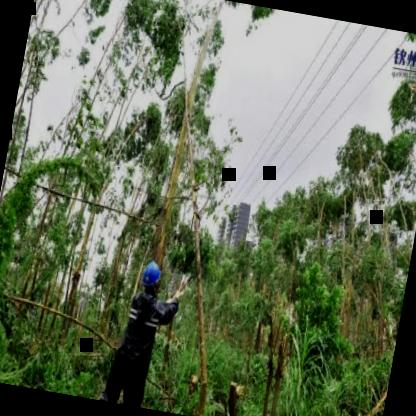helmet: (138, 257, 166, 297)
